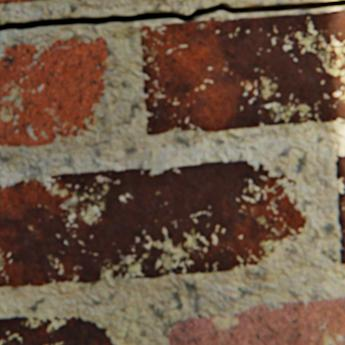brick: (0, 160, 305, 285), (141, 10, 344, 134), (0, 36, 106, 146), (165, 295, 344, 344), (0, 315, 113, 344), (334, 155, 344, 263), (0, 0, 37, 3), (88, 117, 93, 125), (286, 178, 294, 183)
crack: (0, 0, 344, 31)
